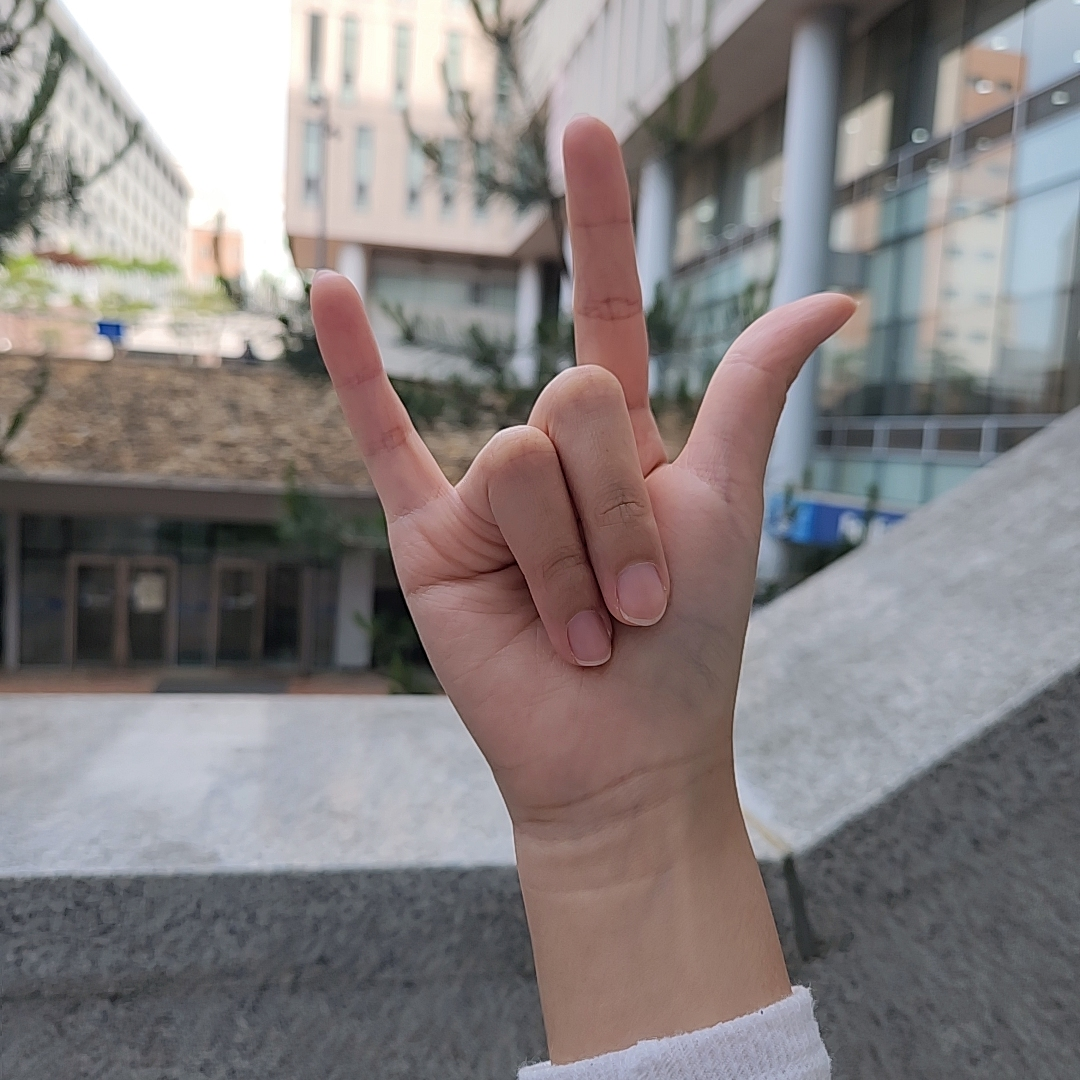iloveyou: (311, 114, 860, 785)
